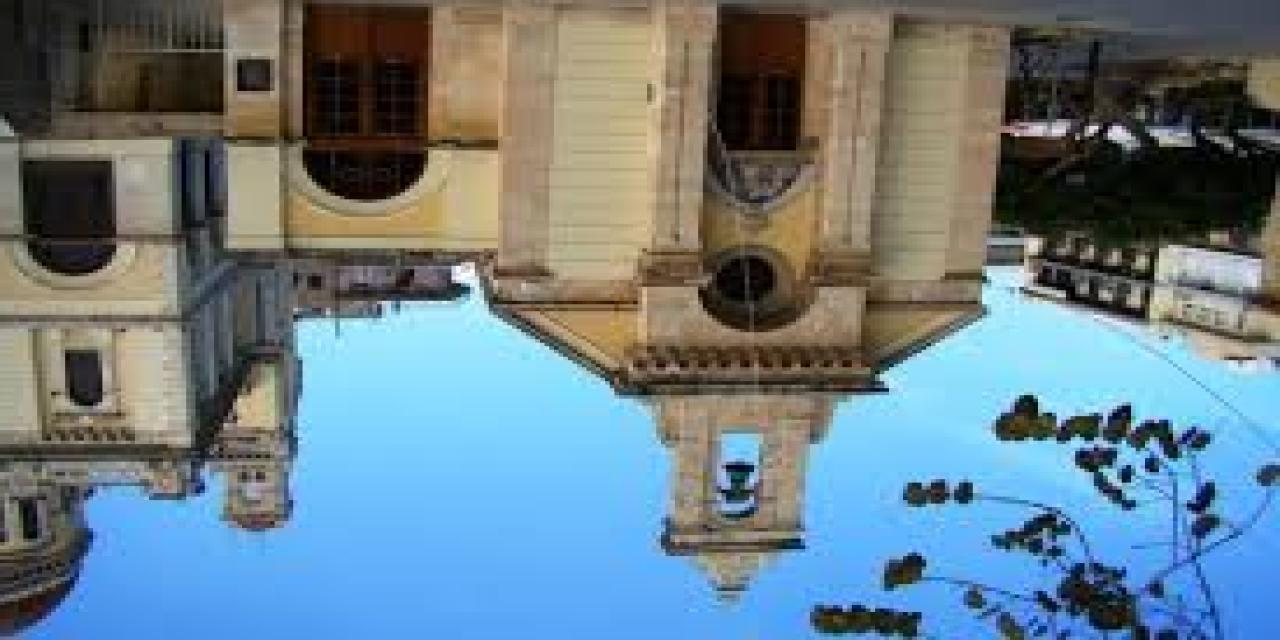Agios Minas: (1, 1, 1011, 640)
